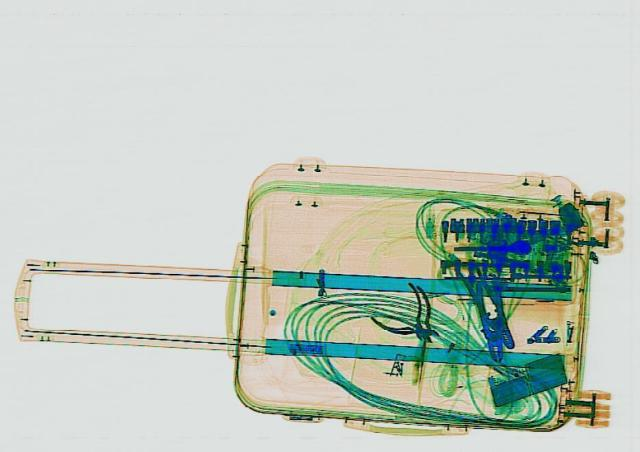Pliers: (356, 279, 459, 348), (360, 282, 462, 351), (450, 259, 524, 348), (470, 274, 510, 359)
